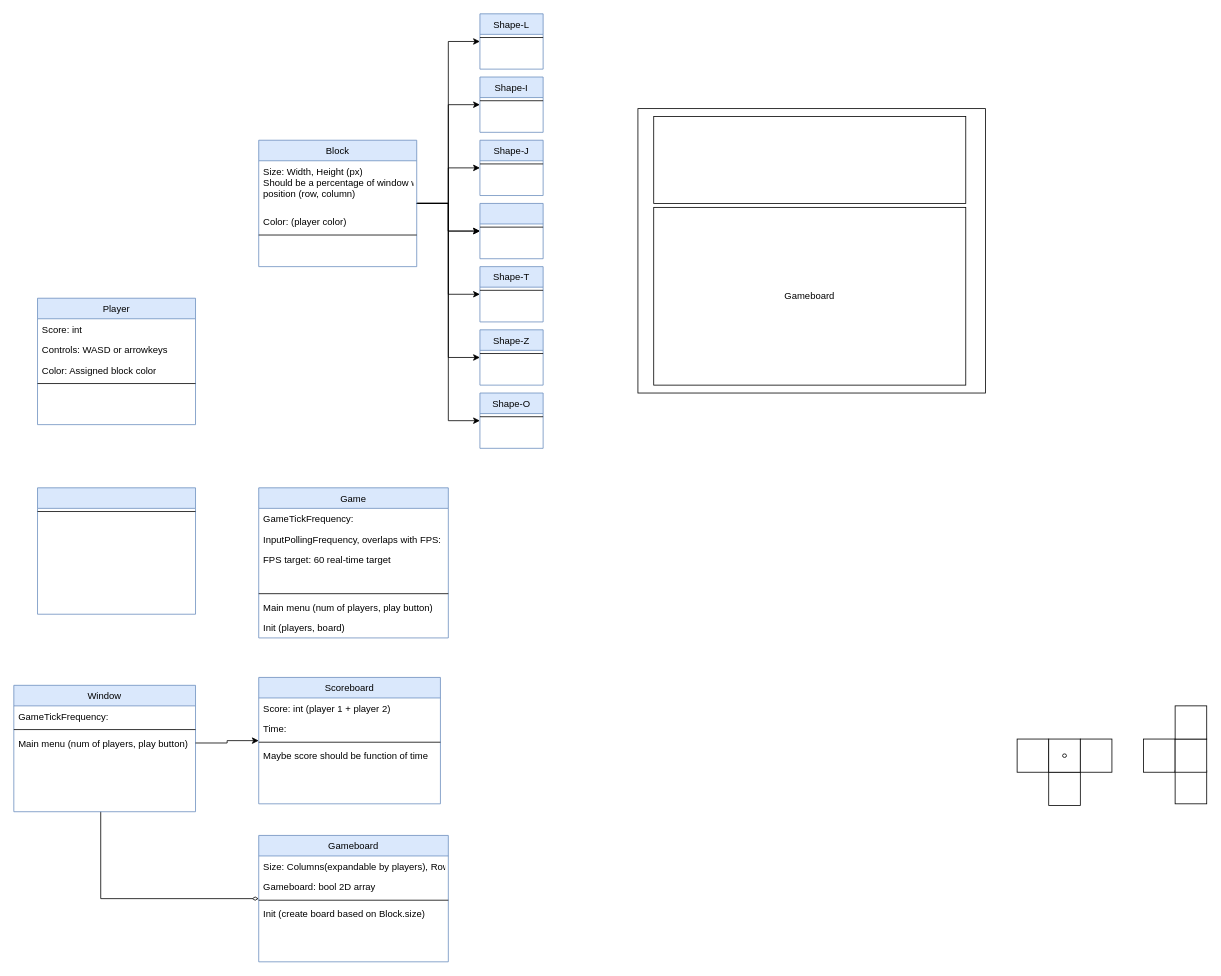
Image size: 1221x976. Some labels were removed from this diagram. Here are the shapes that lost their labels. From the top down, the centre of each, then its label:
At (809,159): "Scoreboard Timer".
At (511,231): "Shape-S".
At (116,550): "Input".
